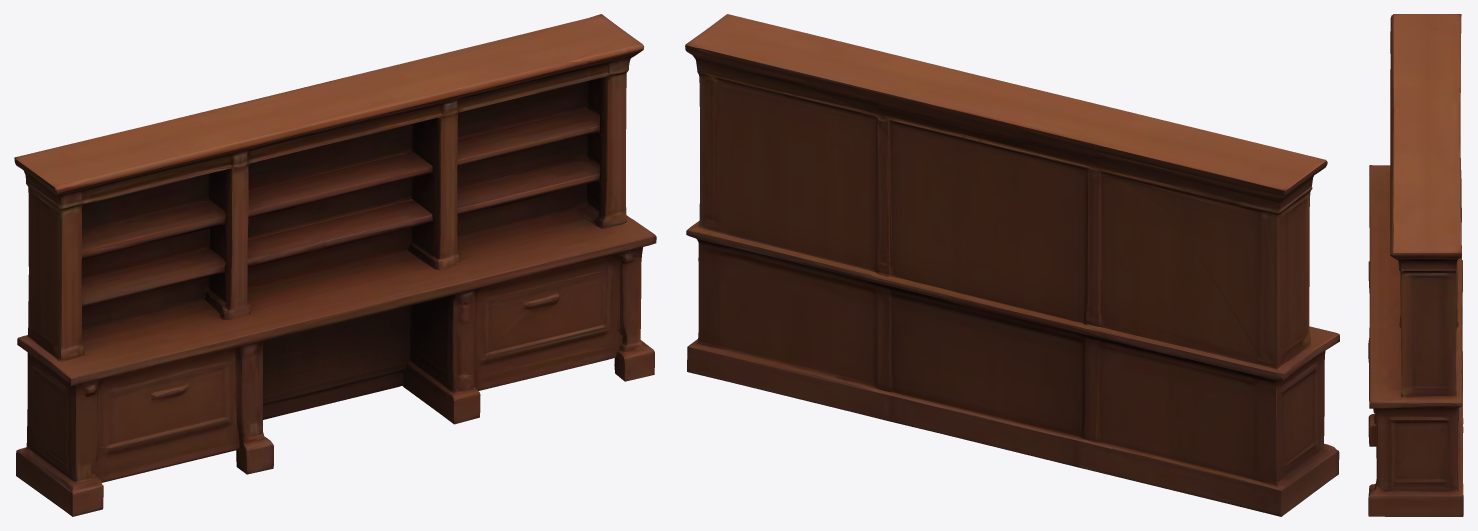
The model's file is ballroom_bar.glb.
3 renders of one model, left to right at view 1: azimuth 30°, elevation 25°; view 2: azimuth 150°, elevation 25°; view 3: azimuth 270°, elevation 25°, orthographic. The views are drawn at different scales.
Parts seen in each view (by area): view 1: geometry_0; view 2: geometry_0; view 3: geometry_0.
Boxes of the visible parts, box(x1,y1,x2,y2) form: geometry_0: box(14, 14, 656, 516); geometry_0: box(685, 14, 1339, 516); geometry_0: box(1368, 14, 1463, 516).
Size of the model in its own units: 1 by 0.521 by 0.1686.
Materials: 1 (1 with a texture image).
